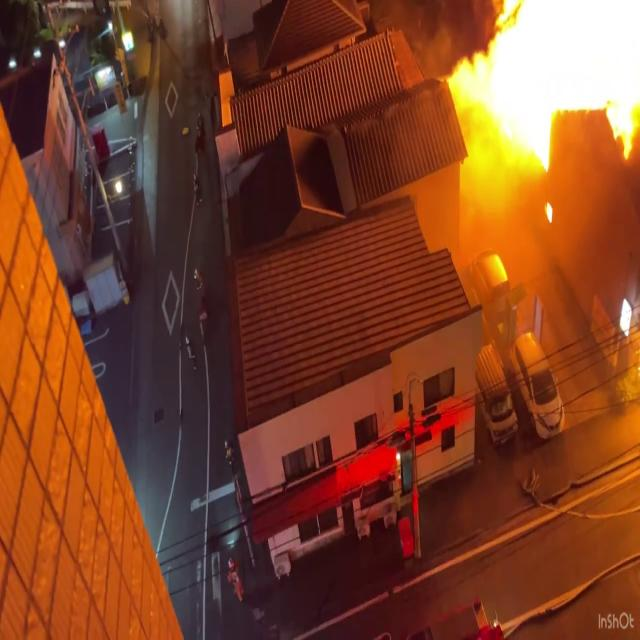Fire: (453, 0, 639, 172)
